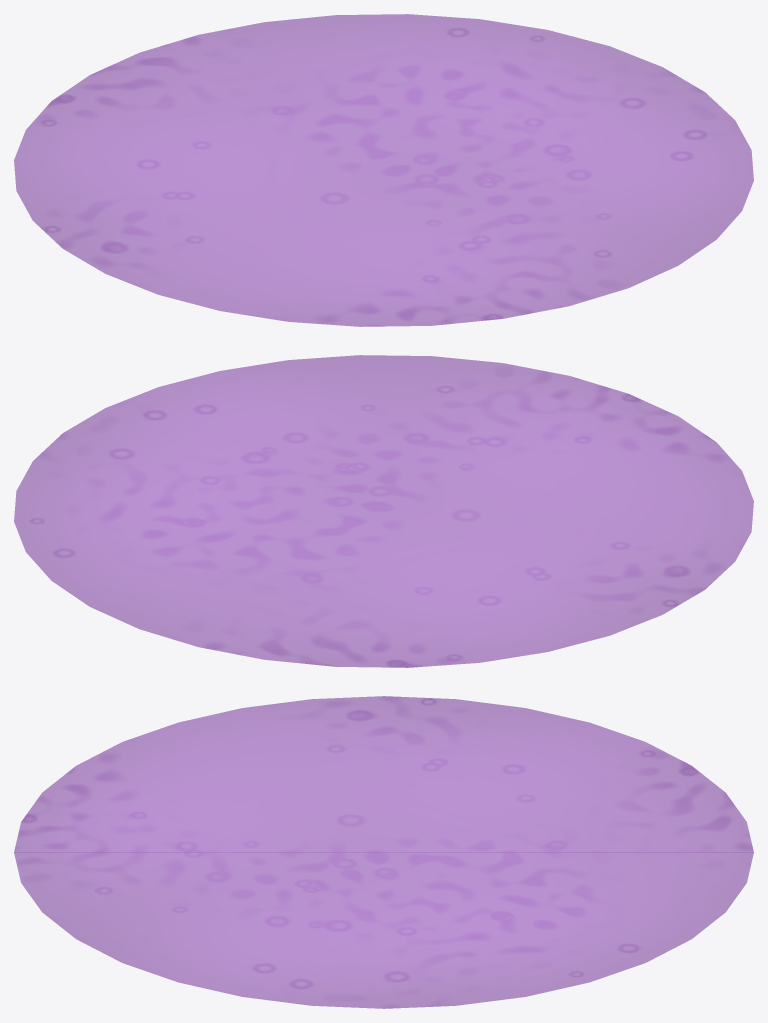
File: mm8_deco_barrel_liquid_purple.glb
3 views of the same model, one above another, from view 1: azimuth 30°, elevation 25°; view 2: azimuth 150°, elevation 25°; view 3: azimuth 270°, elevation 25° (orthographic).
Visible parts, largest first — view 1: Liquid; view 2: Liquid; view 3: Liquid.
Boxes of the visible parts, left/top/right/bottom form: Liquid: left=14, top=14, right=753, bottom=326; Liquid: left=14, top=355, right=753, bottom=667; Liquid: left=14, top=696, right=753, bottom=1008.
Bounding box in the file's own units: 0.512 × 0 × 0.512.
1 material, 1 textured.
